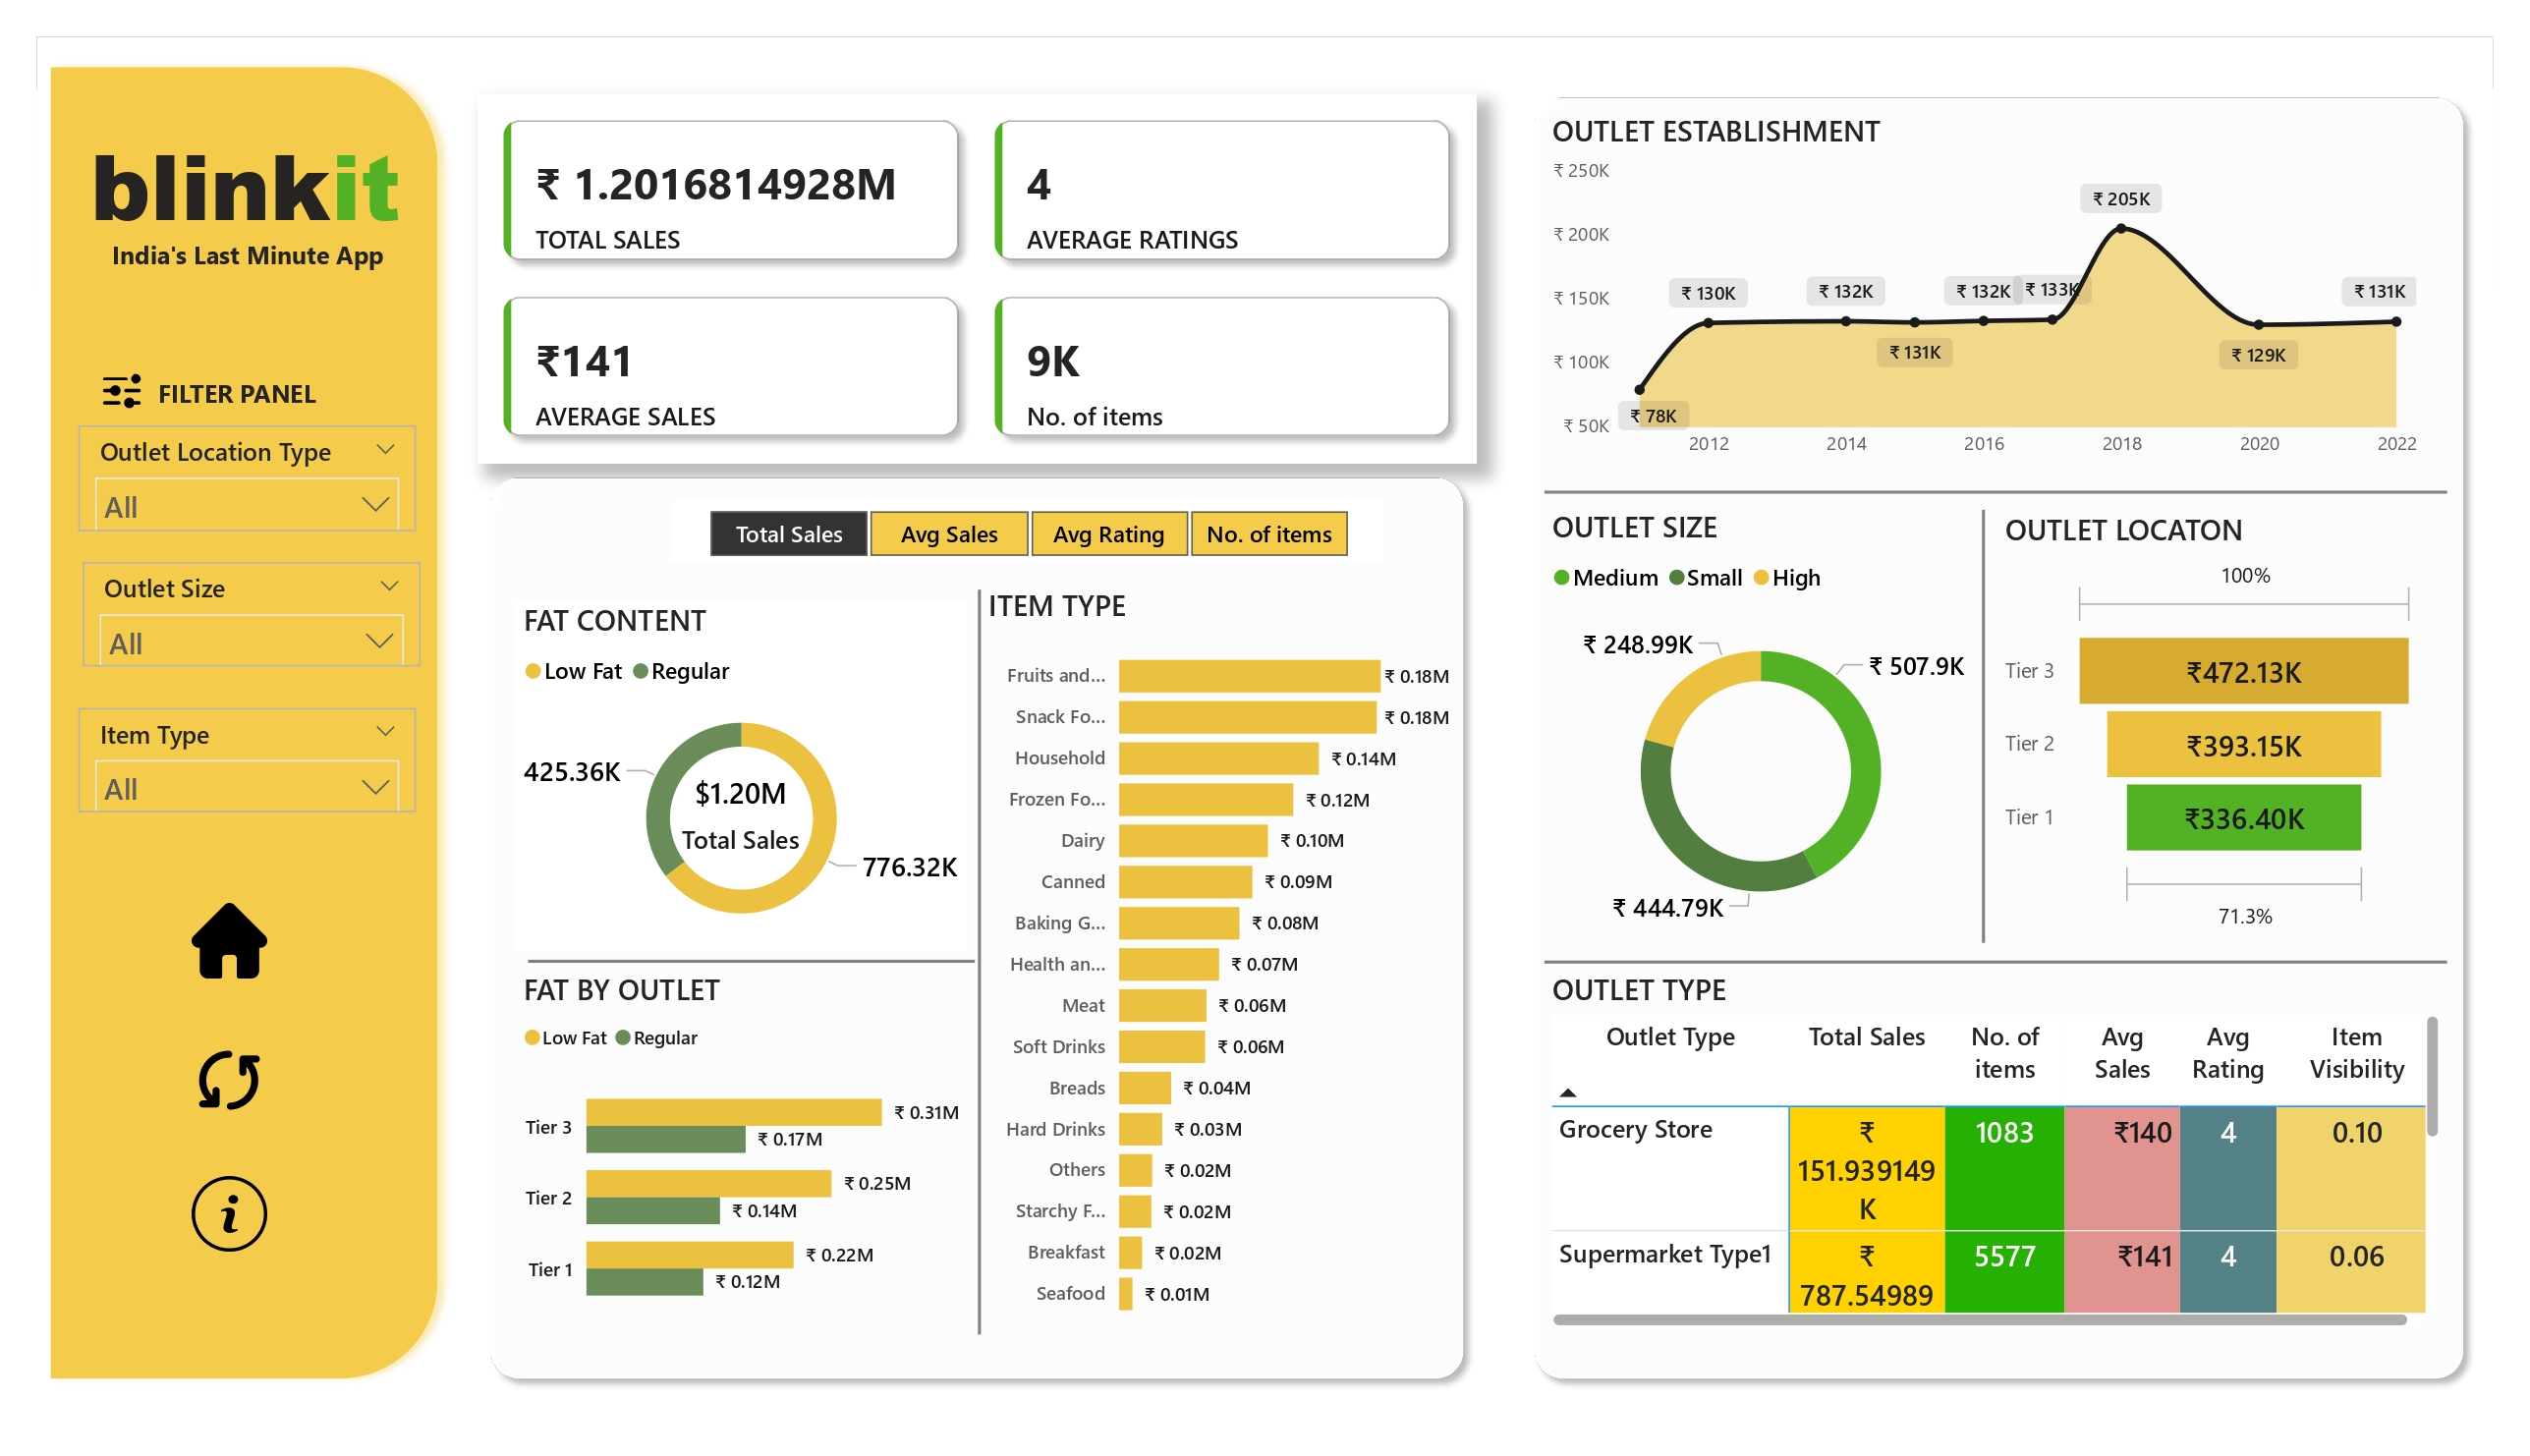

The dashboard page shown, as its layout file describes it:
{"tool":"powerbi","page":{"name":"Dashboard","canvas":[1600,900],"ordinal":0},"visuals":[{"type":"shape","box":[0,10,270,873.3],"z":0},{"type":"textbox","box":[30,48.6,232.9,95.7],"z":1000},{"type":"textbox","box":[44.3,125.7,205.7,37.1],"z":2000},{"type":"cardVisual","fields":{"Data":["BlinkIT Grocery Data.Total Sales","BlinkIT Grocery Data.Avg Rating","BlinkIT Grocery Data.Avg Sales","BlinkIT Grocery Data.No. of items"]},"box":[286.7,36.7,651.7,241.7],"z":3000},{"type":"shape","box":[286.7,278.3,651.7,605],"z":4000},{"type":"donutChart","title":"FAT CONTENT","fields":{"Y":["BlinkIT Grocery Data.Total Sales"],"Category":["BlinkIT Grocery Data.Item Fat Content"]},"box":[311.7,367.3,294.3,228.6],"z":5000},{"type":"slicer","fields":{"Values":["Metrics.Metrics"]},"box":[413.2,301.6,464.5,40.7],"z":6000},{"type":"card","fields":{"Values":["BlinkIT Grocery Data.Total Sales"]},"box":[406.7,456.7,103.3,95],"z":7000},{"type":"clusteredBarChart","title":"FAT BY OUTLET","fields":{"Y":["BlinkIT Grocery Data.Total Sales"],"Category":["BlinkIT Grocery Data.Outlet Location Type"],"Series":["BlinkIT Grocery Data.Item Fat Content"]},"box":[311.7,606.7,295,238.3],"z":8000},{"type":"shape","box":[320,580,291.4,44.3],"z":9000},{"type":"shape","box":[595,360,38.3,485],"z":10000},{"type":"barChart","title":"ITEM TYPE","fields":{"Y":["BlinkIT Grocery Data.Total Sales"],"Category":["BlinkIT Grocery Data.Item Type"]},"box":[615,356.7,310,488.3],"z":11000},{"type":"shape","box":[966.7,30,623.3,853.3],"z":12000},{"type":"lineChart","title":"OUTLET ESTABLISHMENT","fields":{"Category":["BlinkIT Grocery Data.Outlet Establishment Year"],"Y":["BlinkIT Grocery Data.Total Sales"]},"box":[981.7,48.3,573.3,235],"z":13000},{"type":"shape","box":[981.7,279,588.1,34.7],"z":14000},{"type":"donutChart","title":"OUTLET SIZE","fields":{"Y":["BlinkIT Grocery Data.Total Sales"],"Category":["BlinkIT Grocery Data.Outlet Size"]},"box":[981.7,306.1,282,289.5],"z":15000},{"type":"shape","box":[1248.3,308.3,40,281.7],"z":16000},{"type":"funnel","title":"OUTLET LOCATON","fields":{"Y":["Sum(BlinkIT Grocery Data.Sales)"],"Category":["BlinkIT Grocery Data.Outlet Location Type"]},"box":[1276.7,308.3,278.3,280],"z":17000},{"type":"shape","box":[981.7,585.1,588.1,34.7],"z":18000},{"type":"pivotTable","title":"OUTLET TYPE","fields":{"Rows":["BlinkIT Grocery Data.Outlet Type"],"Values":["BlinkIT Grocery Data.Total Sales","BlinkIT Grocery Data.No. of items","BlinkIT Grocery Data.Avg Sales","BlinkIT Grocery Data.Avg Rating","Sum(BlinkIT Grocery Data.Item Visibility)"]},"box":[981.7,606.7,588.3,238.3],"z":19000},{"type":"slicer","fields":{"Values":["BlinkIT Grocery Data.Outlet Location Type"]},"box":[26.7,253.3,220,68.3],"z":20000},{"type":"slicer","fields":{"Values":["BlinkIT Grocery Data.Outlet Size"]},"box":[30,341.7,220,68.3],"z":21000},{"type":"slicer","fields":{"Values":["BlinkIT Grocery Data.Item Type"]},"box":[26.7,436.7,220,68.3],"z":22000},{"type":"textbox","box":[74.2,215.7,123.7,37.7],"z":23000},{"type":"image","box":[95,559.5,60.3,58.8],"z":24000},{"type":"image","box":[36.5,206.6,37.7,46.7],"z":25000},{"type":"image","box":[95,650,60.3,58.8],"z":26000},{"type":"image","box":[95,737.4,60.3,58.8],"z":28000}]}

Visuals, with their boxes on the page's 1600x900 design canvas (x1, y1, x2, y2). These are canvas units, not pixel positions in the 2530x1456 screenshot, which may show the page scaled, cropped or inside an application window:
shape: 0 10 270 883
textbox: 30 49 263 144
textbox: 44 126 250 163
cardVisual - BlinkIT Grocery Data.Total Sales x BlinkIT Grocery Data.Avg Rating: 287 37 938 278
shape: 287 278 938 883
"FAT CONTENT" donutChart: 312 367 606 596
slicer - Metrics.Metrics: 413 302 878 342
card - BlinkIT Grocery Data.Total Sales: 407 457 510 552
"FAT BY OUTLET" clusteredBarChart: 312 607 607 845
shape: 320 580 611 624
shape: 595 360 633 845
"ITEM TYPE" barChart: 615 357 925 845
shape: 967 30 1590 883
"OUTLET ESTABLISHMENT" lineChart: 982 48 1555 283
shape: 982 279 1570 314
"OUTLET SIZE" donutChart: 982 306 1264 596
shape: 1248 308 1288 590
"OUTLET LOCATON" funnel: 1277 308 1555 588
shape: 982 585 1570 620
"OUTLET TYPE" pivotTable: 982 607 1570 845
slicer - BlinkIT Grocery Data.Outlet Location Type: 27 253 247 322
slicer - BlinkIT Grocery Data.Outlet Size: 30 342 250 410
slicer - BlinkIT Grocery Data.Item Type: 27 437 247 505
textbox: 74 216 198 253
image: 95 560 155 618
image: 36 207 74 253
image: 95 650 155 709
image: 95 737 155 796
